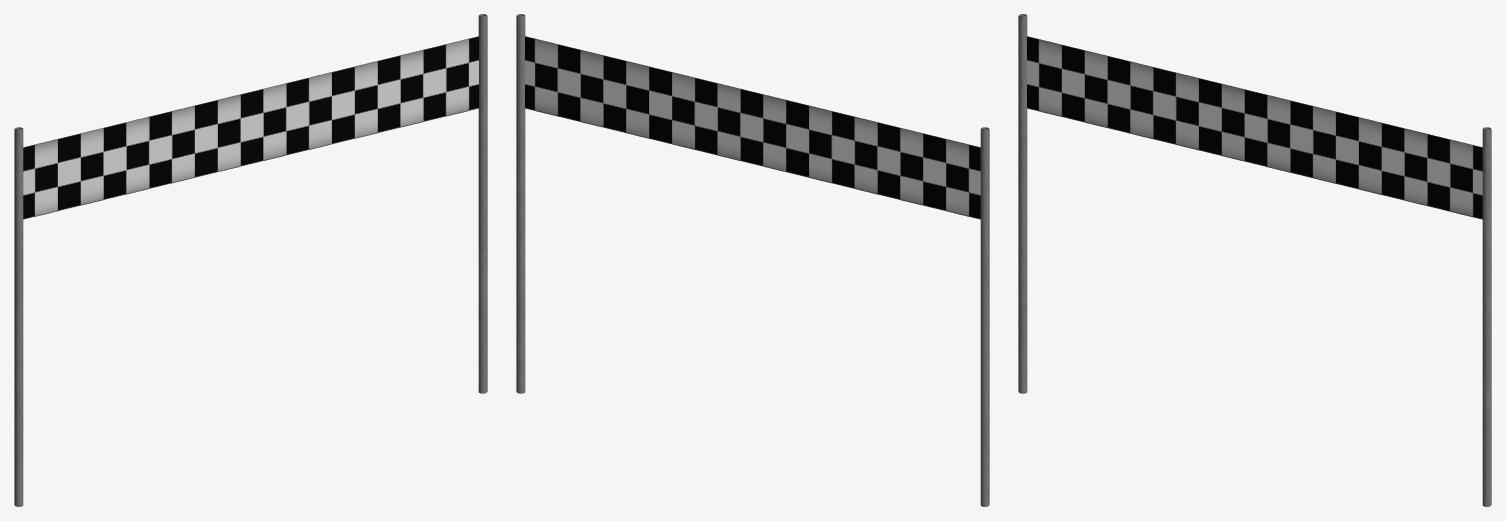
The model's file is SM_finishline_01.fbx.
The picture shows the model from 3 angles, left to right: view 1: azimuth 30°, elevation 25°; view 2: azimuth 150°, elevation 25°; view 3: azimuth 330°, elevation 25°; orthographic projection.
Parts seen in each view (by area): view 1: pPlane3; view 2: pPlane3; view 3: pPlane3.
Boxes of the visible parts, <box> form: pPlane3: <box>14,14,487,506</box>; pPlane3: <box>516,14,989,506</box>; pPlane3: <box>1018,14,1491,506</box>.
Size of the model in its own units: 20.32 by 15.47 by 0.3233.
Materials: 1 (1 with a texture image).
